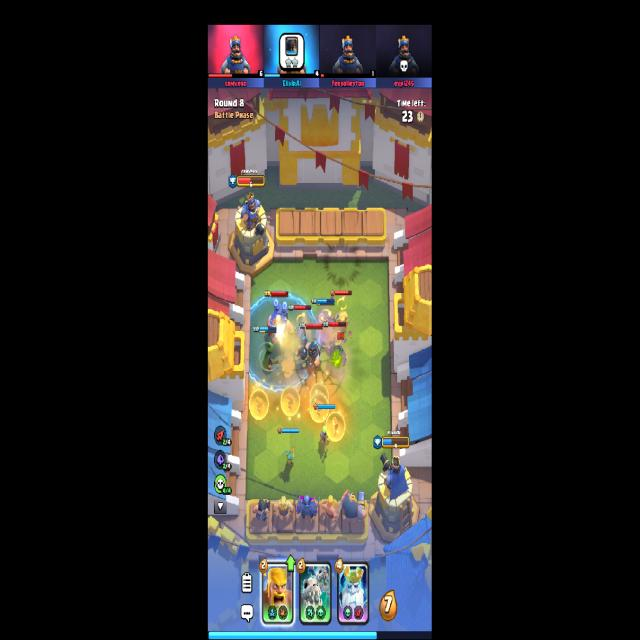bandit: (262, 341, 280, 372)
barbarian: (262, 560, 294, 626), (322, 495, 343, 524)
dart_goblin: (282, 444, 296, 468)
electro_giant: (268, 300, 294, 342)
executioner: (252, 499, 270, 523)
golden_knight: (273, 491, 298, 522), (334, 310, 350, 330)
mega_knight: (299, 340, 320, 375), (319, 316, 339, 350), (328, 345, 347, 371)
mini_pekka: (293, 322, 309, 347)
pekka: (297, 494, 320, 520)
royal_ghost: (336, 561, 369, 626)
royal_giant: (341, 489, 368, 524)
skeleton_dragon: (298, 561, 332, 625)
spear_goblin: (319, 420, 333, 451)
